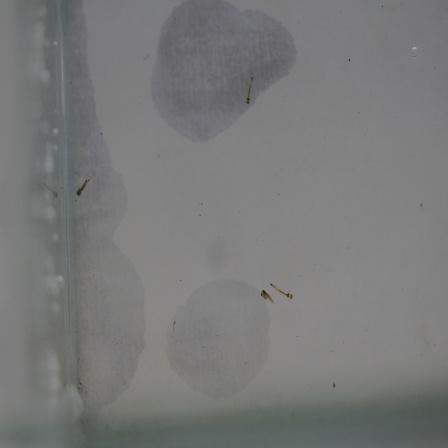Jentik-Nyamuk: (256, 277, 297, 306), (242, 74, 260, 106), (76, 175, 95, 202)
